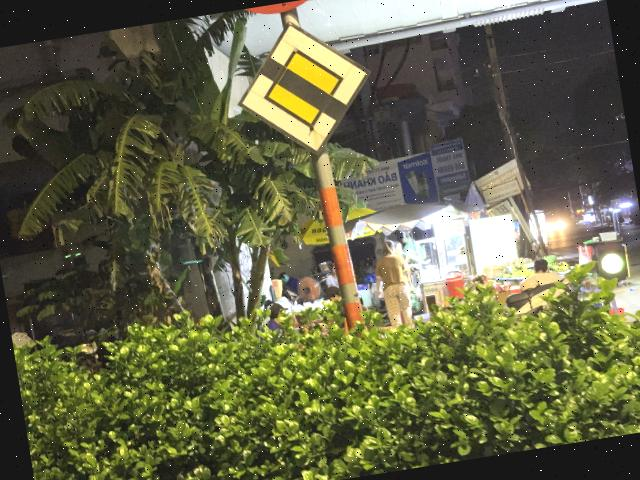het-duong-uu-tien: (224, 10, 383, 169)
